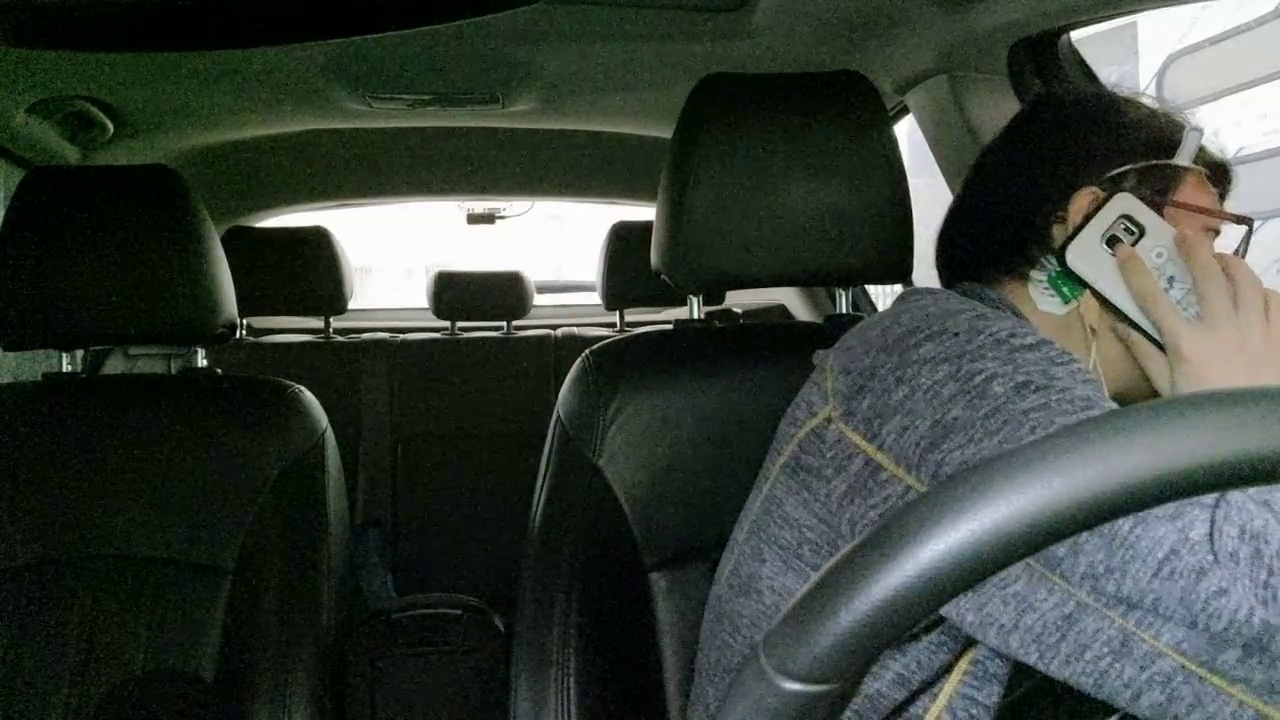phone: (1034, 173, 1258, 399)
